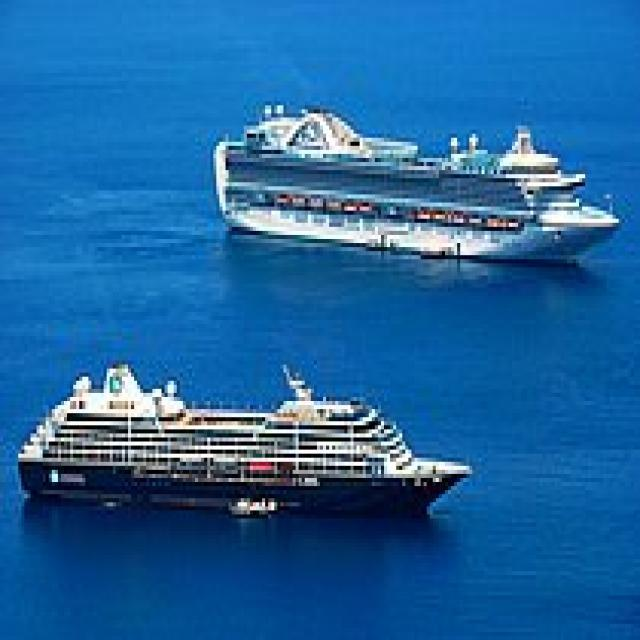Ship: (7, 349, 498, 540), (208, 90, 632, 289)
